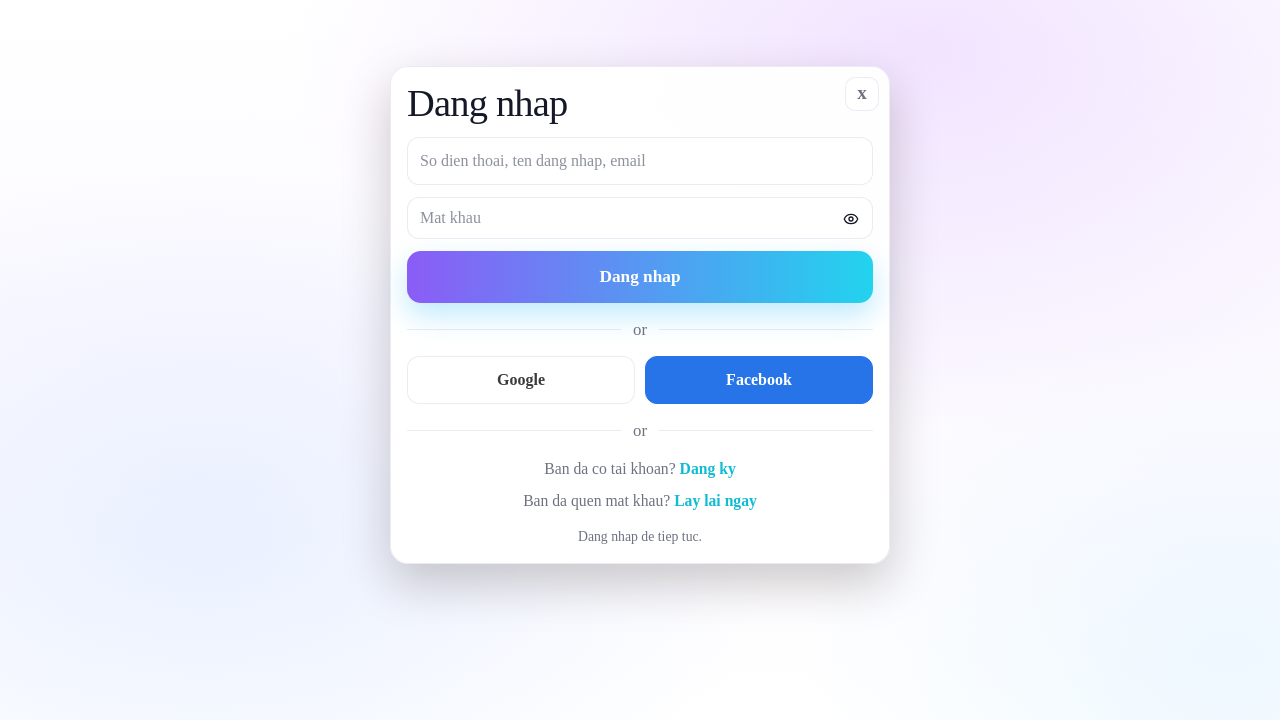
Test case: local auth forms › blocks invalid login submit and shows validation message
Click the button "Dang nhap" at (640, 277), box [407, 251, 873, 303]
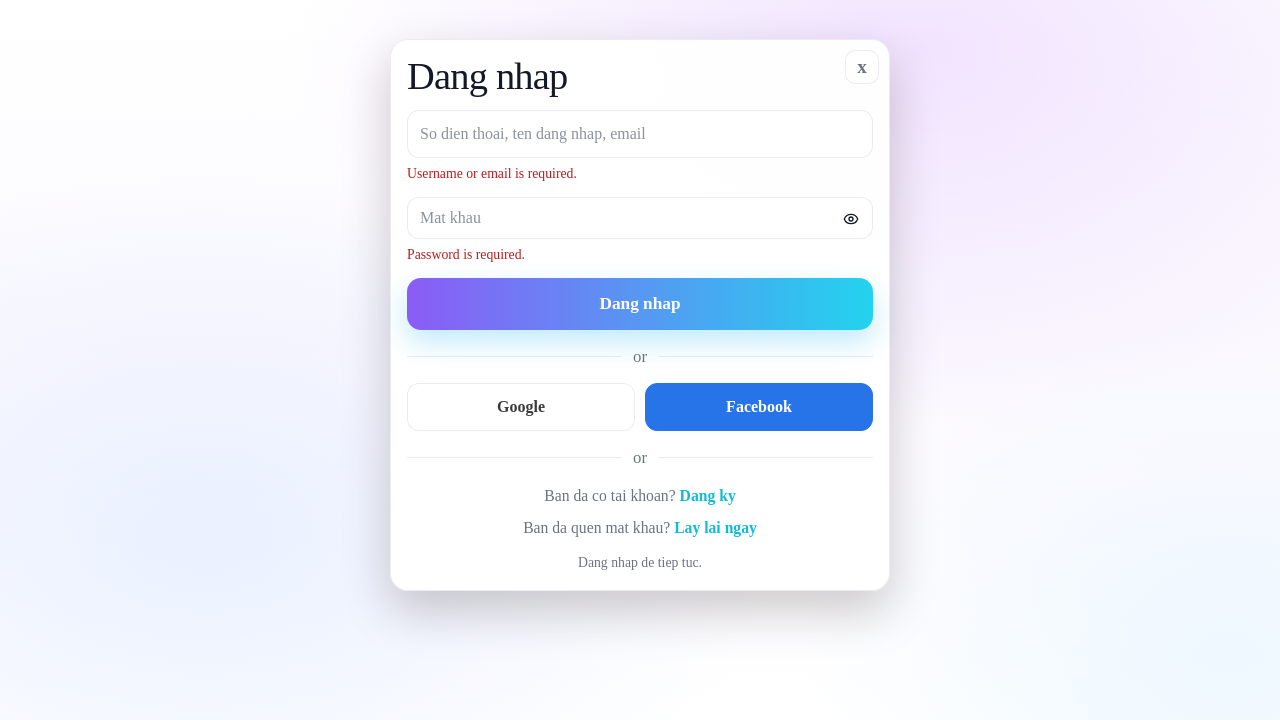
Check: the text "Username or email is required." is shown, box [407, 166, 577, 182]
